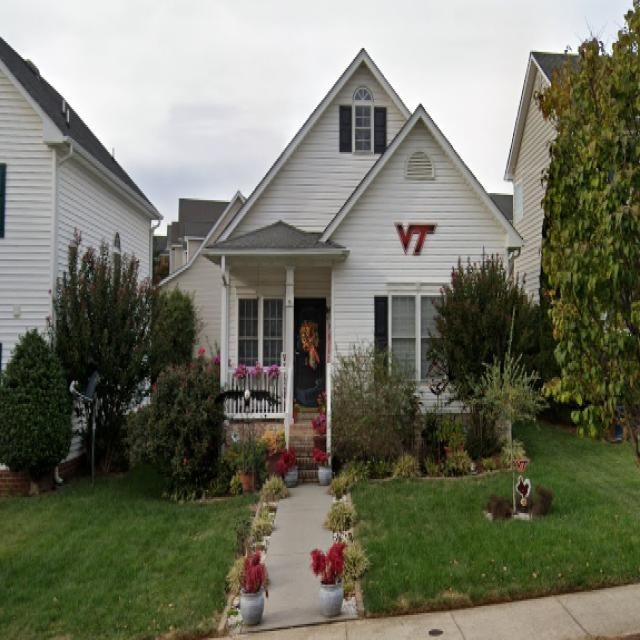House: (150, 46, 526, 468), (0, 13, 163, 498), (504, 50, 640, 337), (165, 198, 246, 275)
